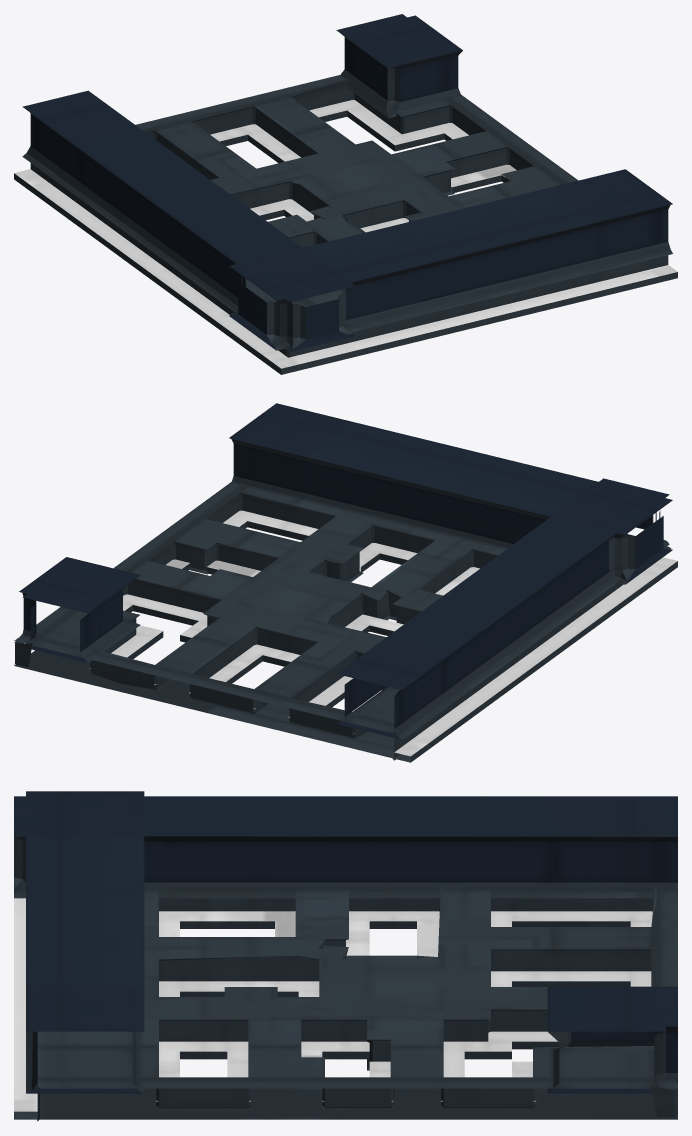
Rendered from delbld-girder-588.glb.
3 views of the same model, one above another, from view 1: azimuth 30°, elevation 25°; view 2: azimuth 150°, elevation 25°; view 3: azimuth 270°, elevation 25° (orthographic). The views are drawn at different scales.
Visible parts, largest first — view 1: delbld-girder-588; view 2: delbld-girder-588; view 3: delbld-girder-588.
Boxes of the visible parts, <box> form: delbld-girder-588: <box>14,14,677,374</box>; delbld-girder-588: <box>14,403,677,762</box>; delbld-girder-588: <box>14,791,677,1121</box>.
Size of the model in its own units: 2 by 0.35 by 2.33.
Materials: 3 (3 with a texture image).
